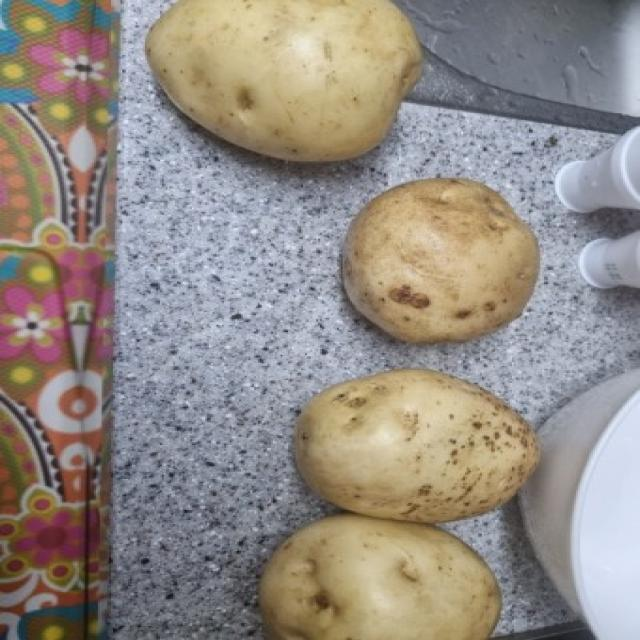potato: (142, 0, 427, 166), (294, 368, 559, 526), (338, 172, 544, 350), (262, 512, 504, 640)
